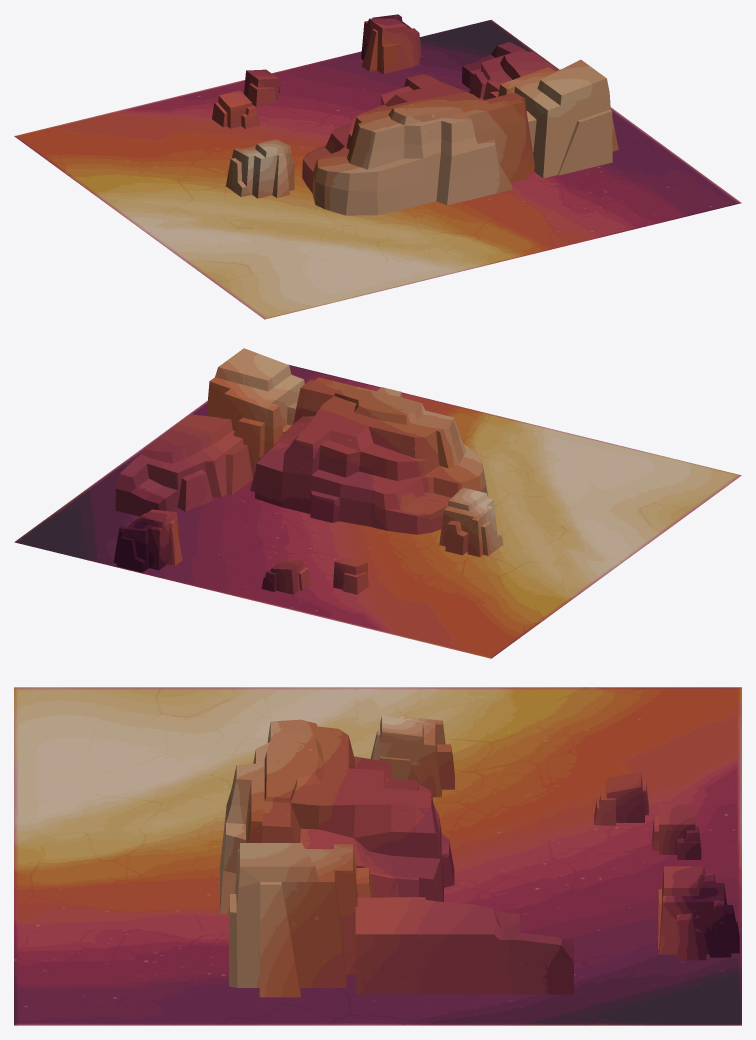
File: GroundEnvironmentFixedFinal.fbx
The picture shows the model from 3 angles, top to bottom: view 1: azimuth 30°, elevation 25°; view 2: azimuth 150°, elevation 25°; view 3: azimuth 270°, elevation 25°; orthographic projection. The views are drawn at different scales.
Visible parts, largest first — view 1: GroundEnvironment; view 2: GroundEnvironment; view 3: GroundEnvironment.
Part boxes in pixels (bbox=[...]): GroundEnvironment: bbox=[14, 14, 741, 319]; GroundEnvironment: bbox=[14, 348, 741, 658]; GroundEnvironment: bbox=[14, 687, 741, 1025].
Size of the model in its own units: 55 by 9.01 by 50.
